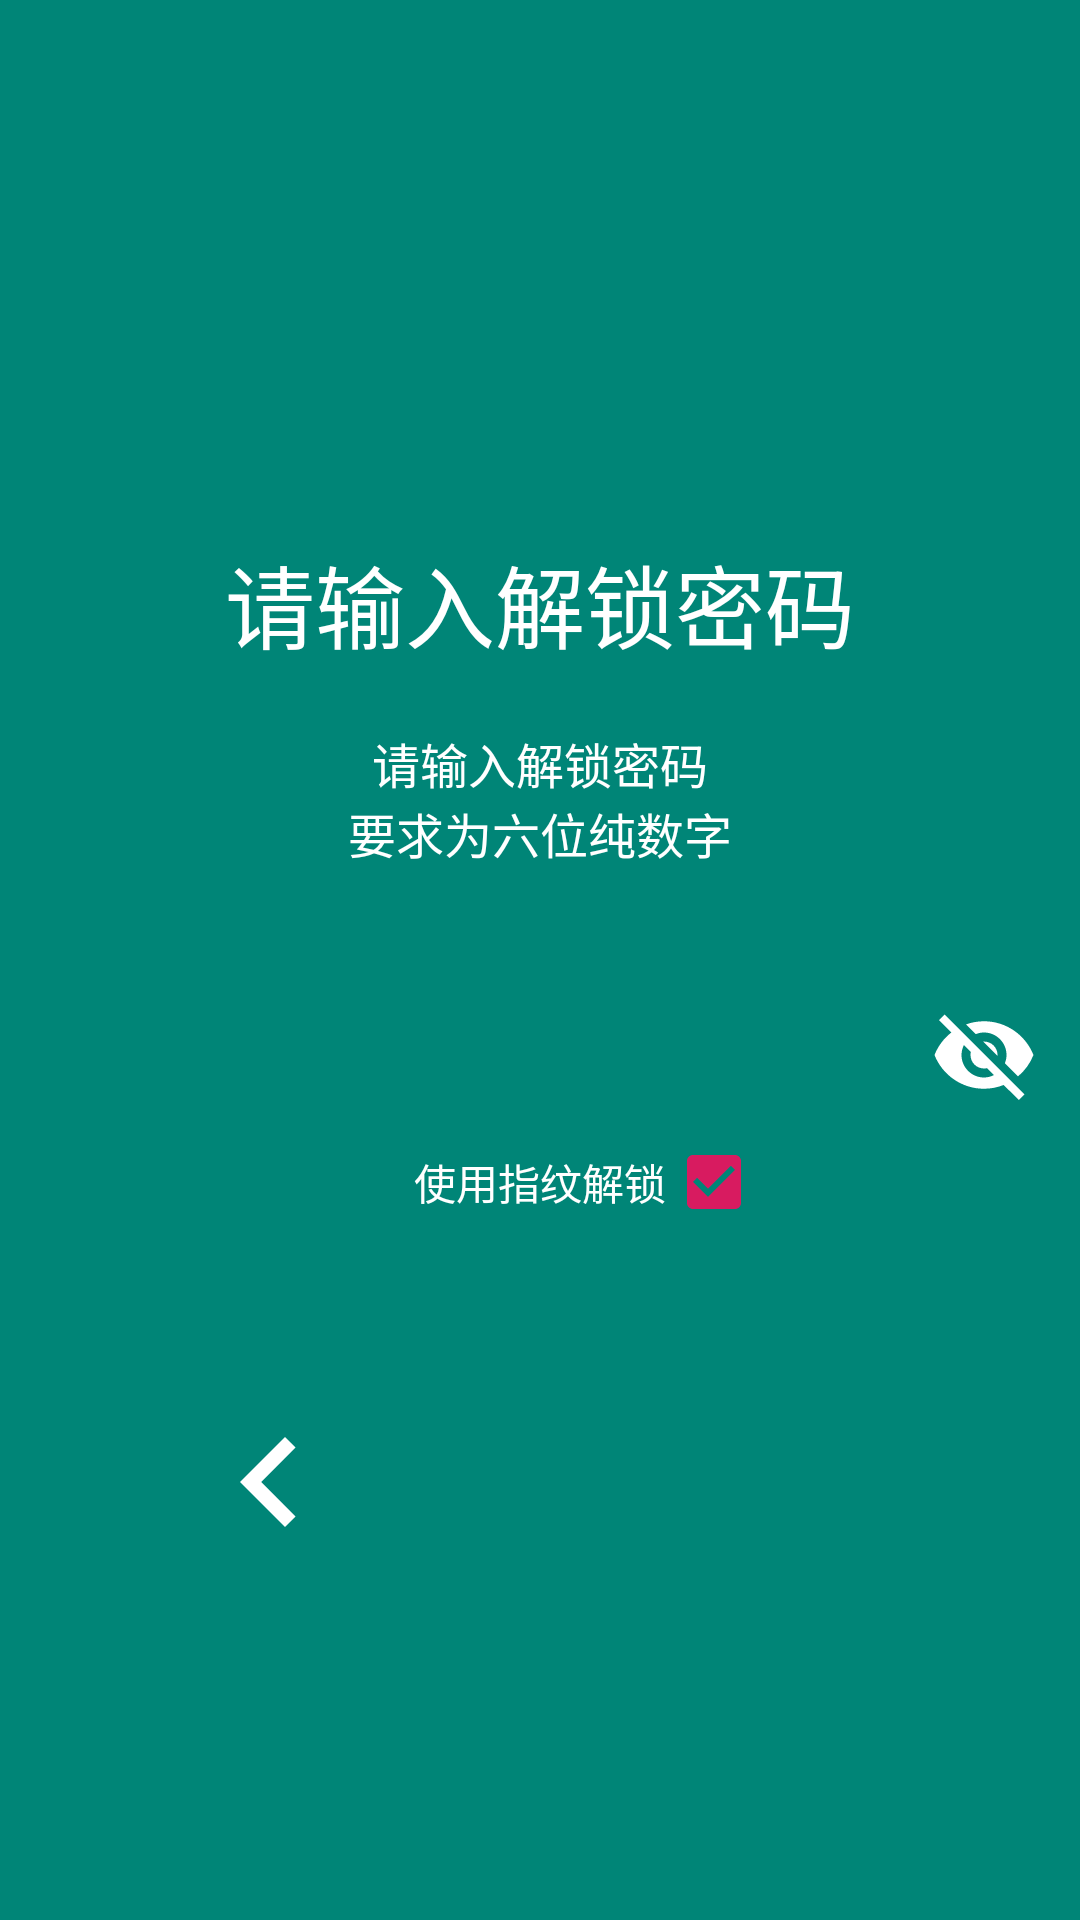

Icon click points for this 1080*1920 phone screenshot, format (x=x, y=y):
previous step btn: (x=268, y=1482)
show/hide the password: (x=984, y=1057)
